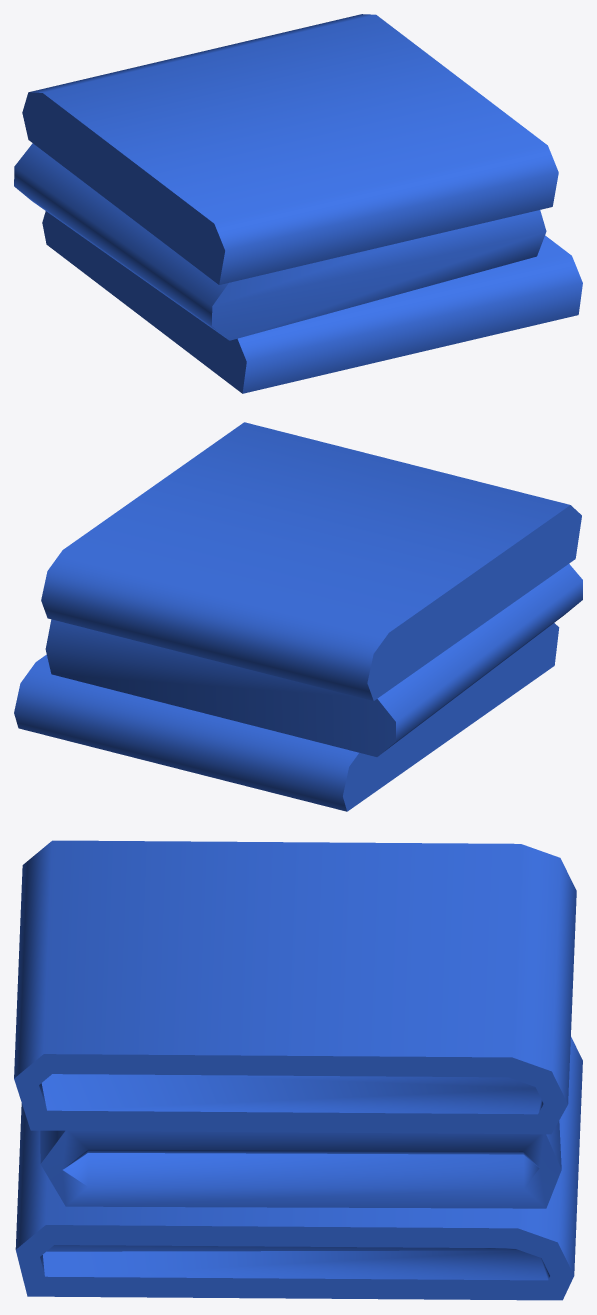
Rendered from clothes_folded2.fbx.
The picture shows the model from 3 angles, top to bottom: view 1: azimuth 30°, elevation 25°; view 2: azimuth 150°, elevation 25°; view 3: azimuth 270°, elevation 25°; orthographic projection. The views are drawn at different scales.
Visible parts, largest first — view 1: shop_center_1_3562; view 2: shop_center_1_3562; view 3: shop_center_1_3562.
Boxes of the visible parts, x1,y1,x2,y2 form: shop_center_1_3562: [14, 14, 582, 393]; shop_center_1_3562: [14, 422, 582, 811]; shop_center_1_3562: [14, 840, 582, 1300].
Size of the model in its own units: 1.01 by 0.4417 by 1.01.
